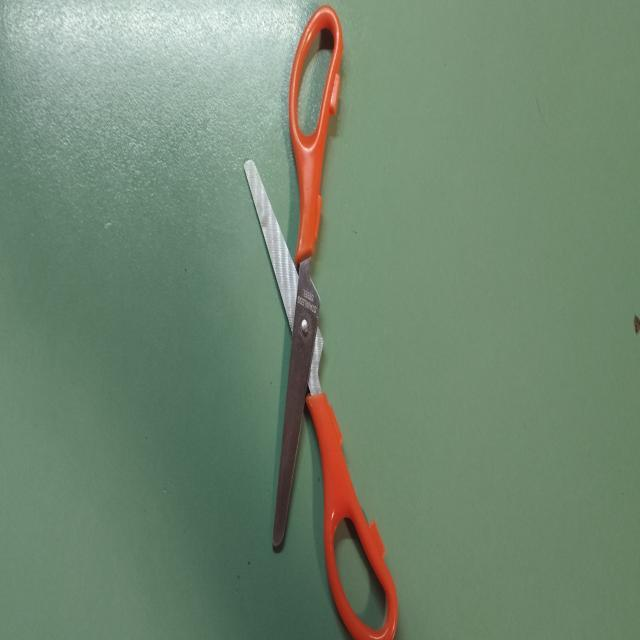tesoura: (241, 4, 401, 640)
